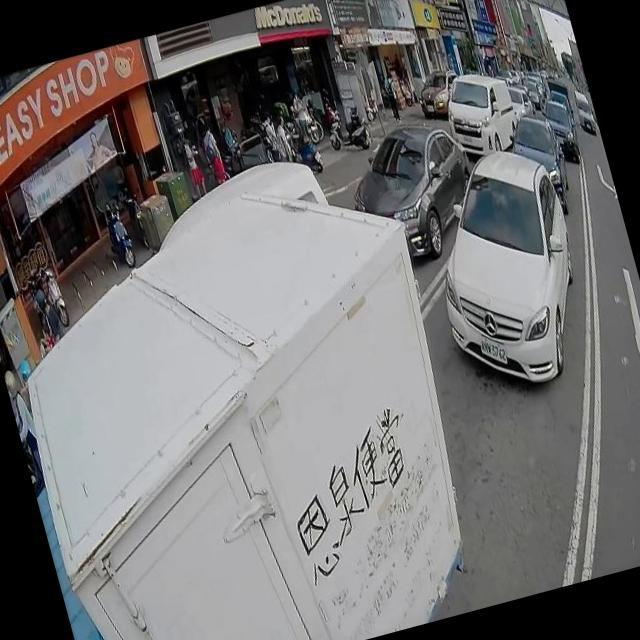person: (29, 278, 64, 345), (196, 119, 230, 186), (180, 131, 208, 197), (270, 114, 300, 168), (288, 88, 314, 146), (258, 114, 284, 164), (380, 73, 400, 120), (189, 105, 211, 140)
